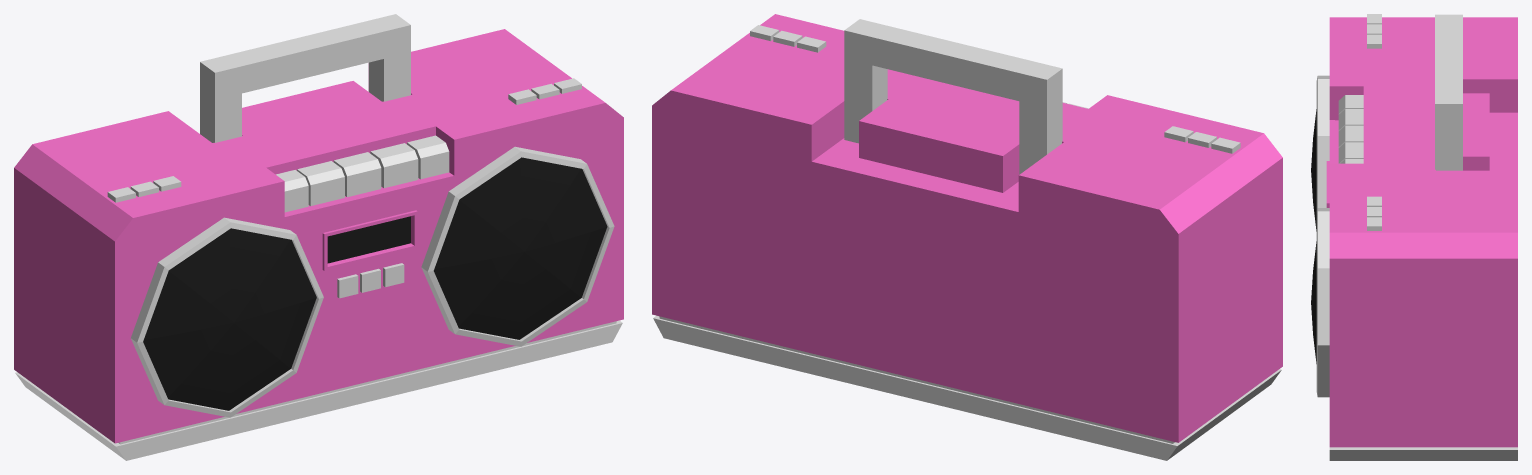
File: boombox.glb
3 views of the same model, side by side, from view 1: azimuth 30°, elevation 25°; view 2: azimuth 150°, elevation 25°; view 3: azimuth 270°, elevation 25° (orthographic). The views are drawn at different scales.
Visible parts, largest first — view 1: Boombox_Circle.002; view 2: Boombox_Circle.002; view 3: Boombox_Circle.002.
Part boxes in pixels (box(x1,y1,x2,y2)): Boombox_Circle.002: box(14, 14, 623, 460); Boombox_Circle.002: box(652, 14, 1282, 460); Boombox_Circle.002: box(1311, 14, 1517, 460).
Bounding box in the file's own units: 7.46 × 4.36 × 2.81.
1 material, 1 textured.
